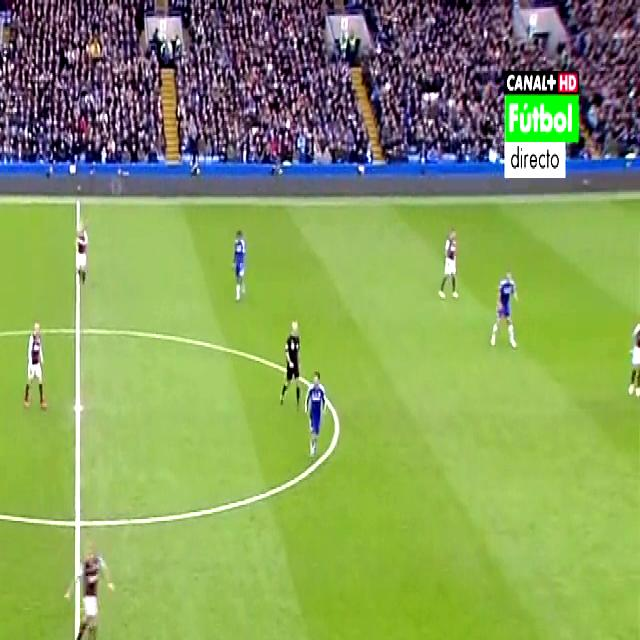referee: (280, 312, 306, 416)
soccer-player: (66, 530, 118, 640), (20, 307, 50, 418), (491, 261, 523, 353), (302, 368, 329, 460), (437, 219, 464, 310), (229, 220, 253, 310), (74, 210, 95, 292), (622, 304, 637, 407)
